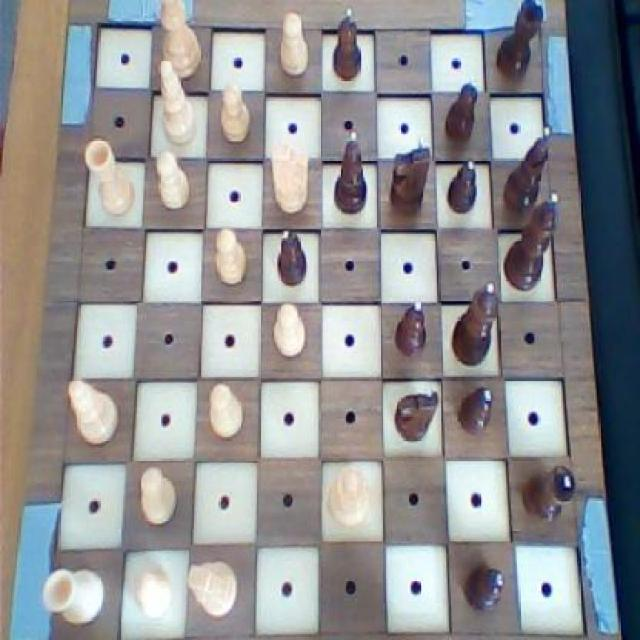bishop: (500, 126, 555, 215), (331, 126, 369, 215)
black-bishop: (502, 188, 562, 296)
black-king: (386, 132, 432, 218), (391, 382, 442, 442)
black-knight: (438, 72, 480, 143), (329, 7, 365, 84), (461, 562, 507, 618), (271, 226, 311, 288), (452, 382, 496, 436), (392, 296, 430, 358), (443, 154, 480, 213)
black-pawn: (446, 282, 501, 368)
black-queen: (492, 0, 550, 83), (519, 461, 576, 527)
black-rook: (63, 375, 122, 450), (157, 55, 201, 148)
white-bishop: (152, 0, 202, 82)
white-king: (266, 138, 312, 217), (186, 557, 242, 620)
white-knight: (129, 561, 176, 627), (150, 147, 194, 216), (135, 461, 180, 527), (209, 223, 250, 288), (204, 380, 244, 444), (214, 79, 253, 143), (274, 12, 311, 78), (269, 298, 308, 359)
white-pawn: (323, 464, 373, 528)
white-queen: (81, 134, 137, 221), (41, 565, 106, 630)
